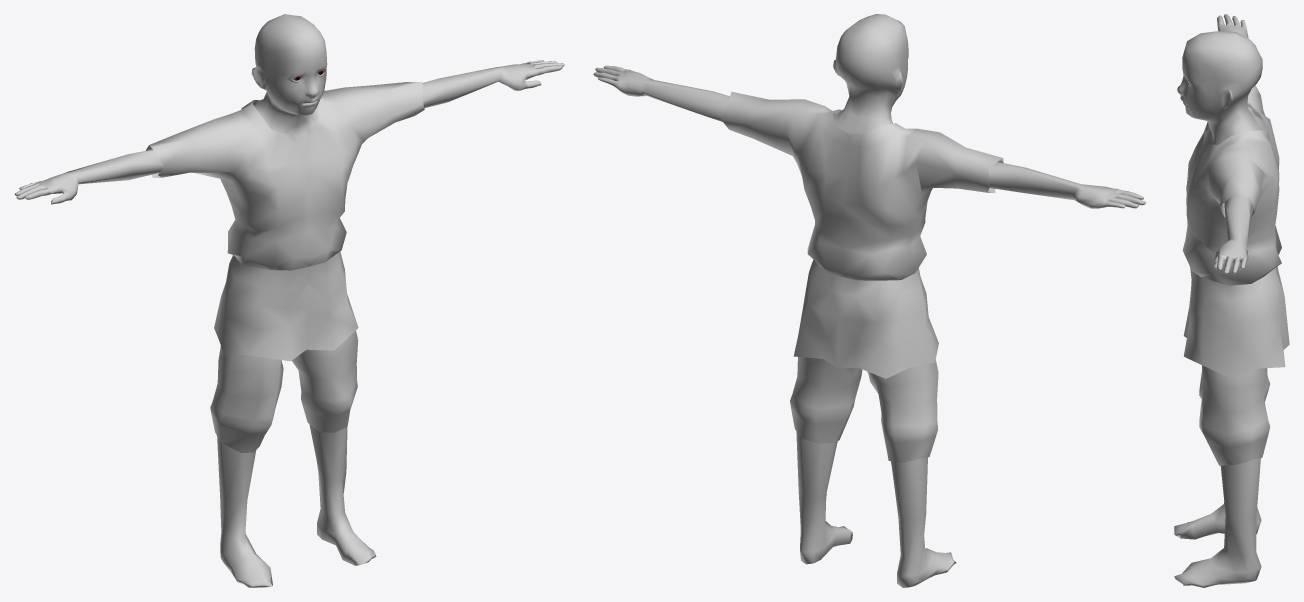
Rendered from Roupa.fbx.
3 renders of one model, left to right at view 1: azimuth 30°, elevation 25°; view 2: azimuth 150°, elevation 25°; view 3: azimuth 270°, elevation 25°, orthographic. The views are drawn at different scales.
Parts seen in each view (by area): view 1: Roupa, male1591Mesh; view 2: Roupa, male1591Mesh; view 3: Roupa, male1591Mesh.
Part boxes in pixels (bbox=[...]): Roupa: bbox=[145, 82, 424, 452]; male1591Mesh: bbox=[14, 14, 564, 587]; Roupa: bbox=[721, 91, 1003, 462]; male1591Mesh: bbox=[593, 14, 1145, 587]; Roupa: bbox=[1182, 85, 1289, 465]; male1591Mesh: bbox=[1174, 14, 1266, 587].
Size of the model in its own units: 513 by 485 by 96.68.
